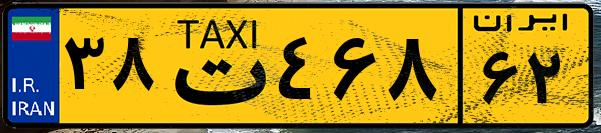2: (525, 38, 570, 115)
3: (57, 26, 110, 100)
4: (270, 28, 330, 110)
6: (330, 28, 385, 110), (475, 38, 525, 113)
8: (385, 28, 445, 110), (110, 28, 158, 98)
ت: (158, 12, 270, 120)
